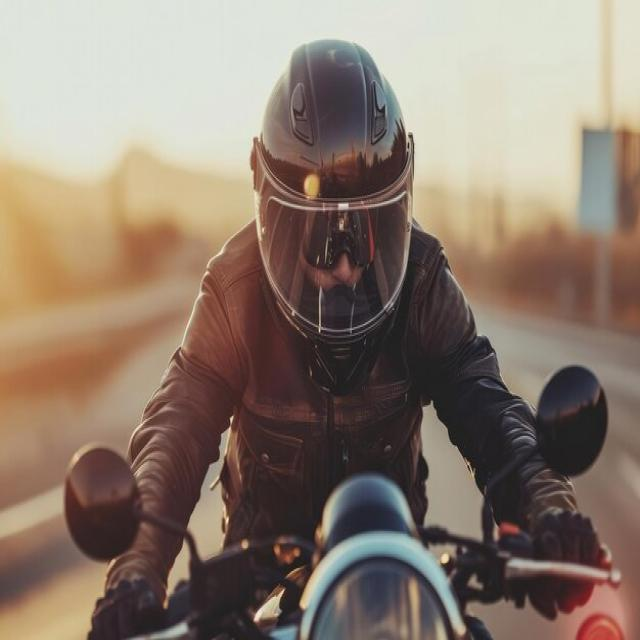Helmet: (250, 37, 415, 396)
